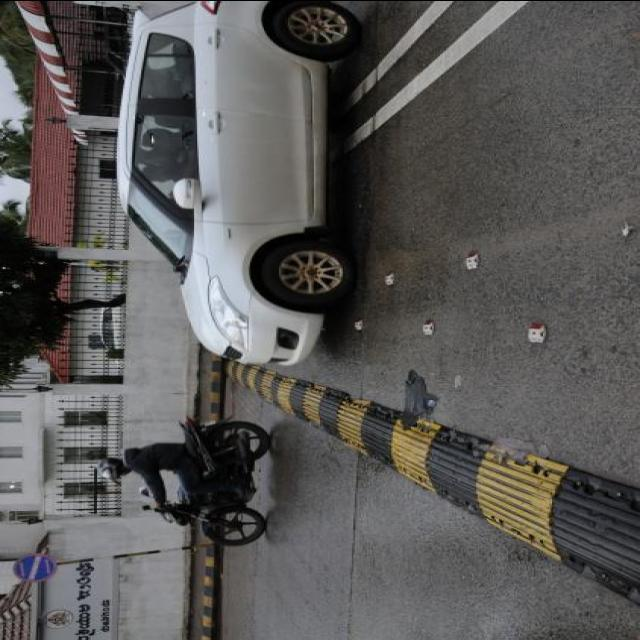speedbreaker: (217, 360, 640, 594)
